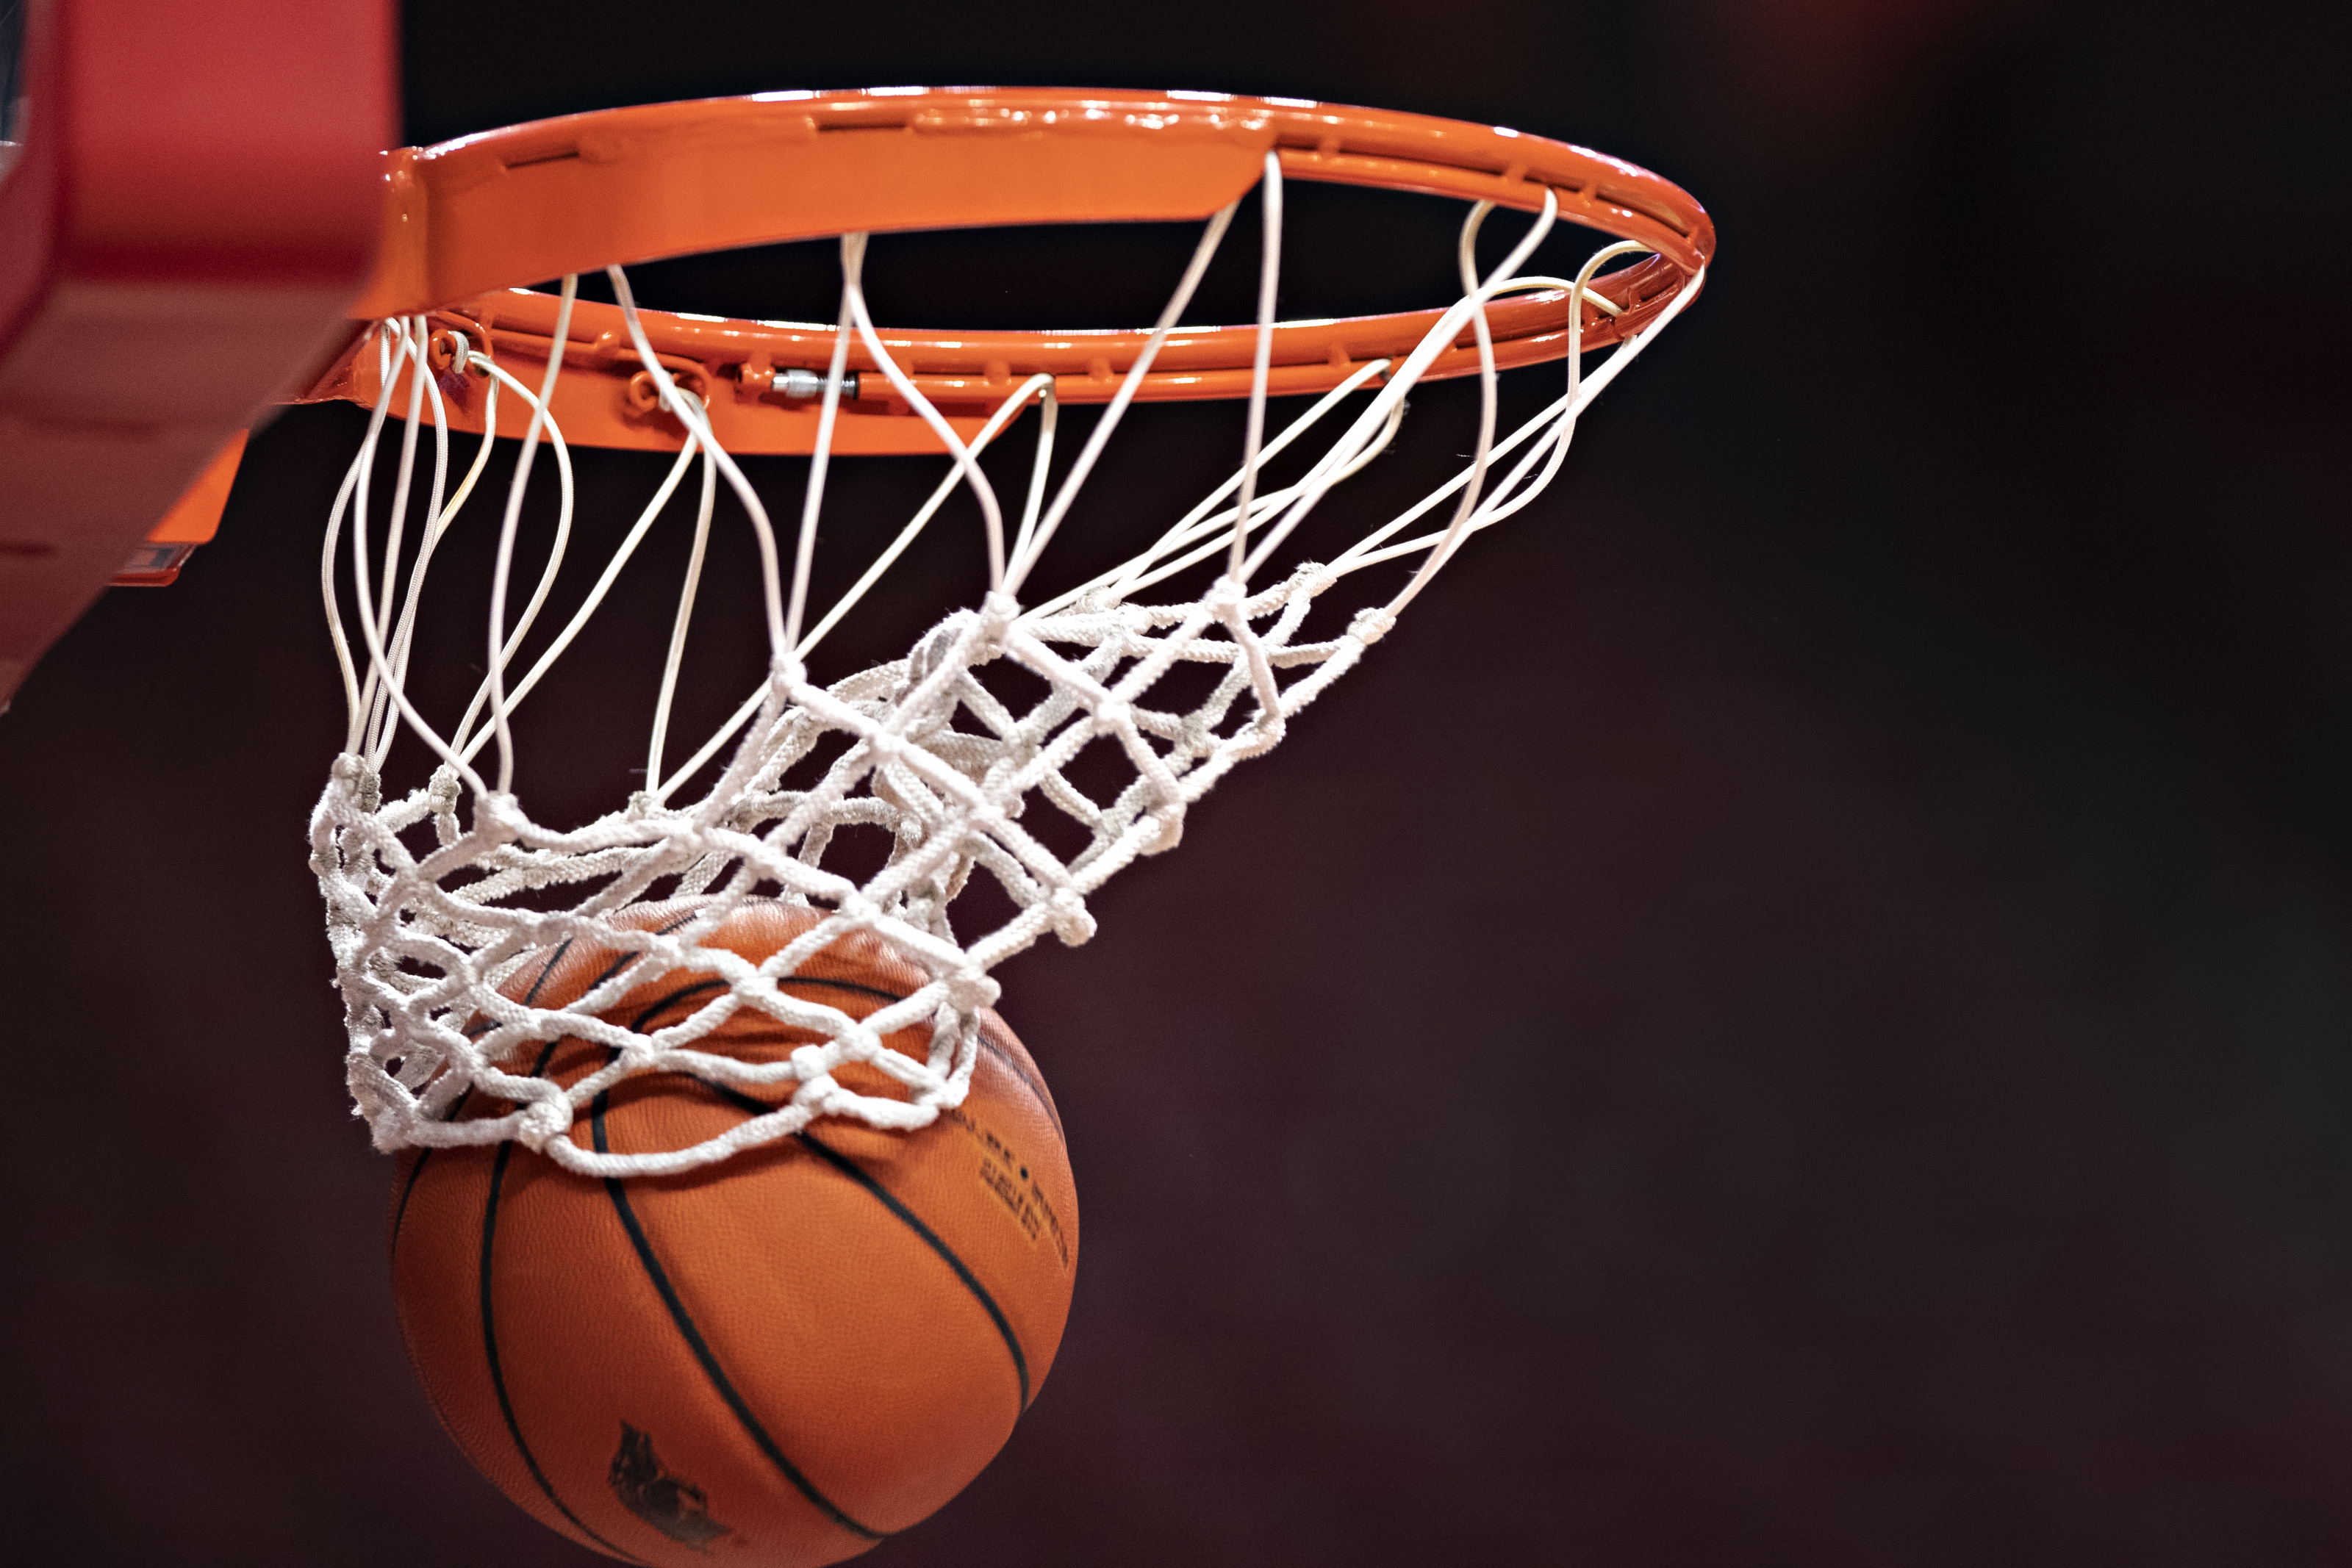MadeBasket: (311, 91, 1717, 1563)
